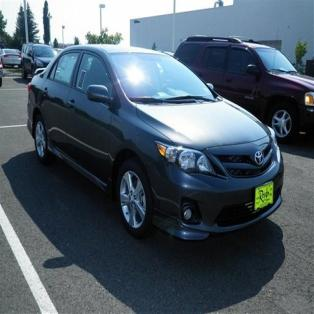Auto: (22, 35, 289, 255)
